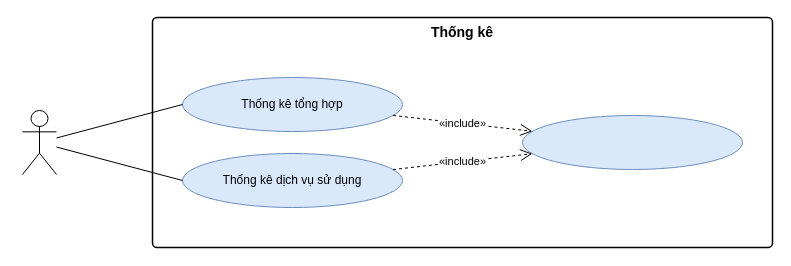
The diagram is 791 pixels wide and 266 high, and some of its shapes have lost their labels. The centre of each missing label's shape, as x and y in pixels:
"Chọn khoảng thời gian" belongs at (x=632, y=142).
"Quản lý" belongs at (x=39, y=142).
